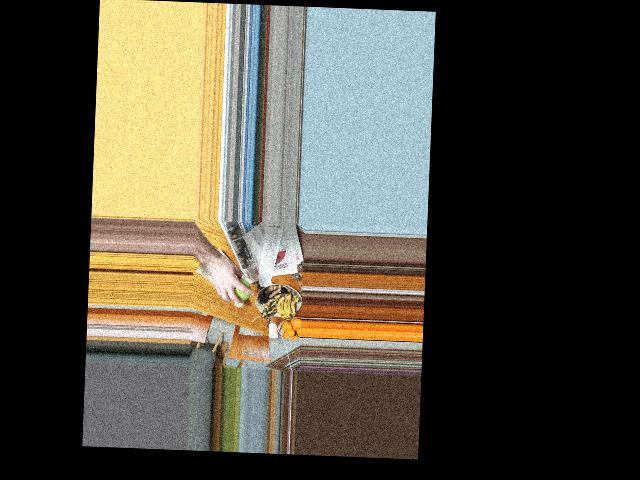apple: (227, 276, 251, 302)
